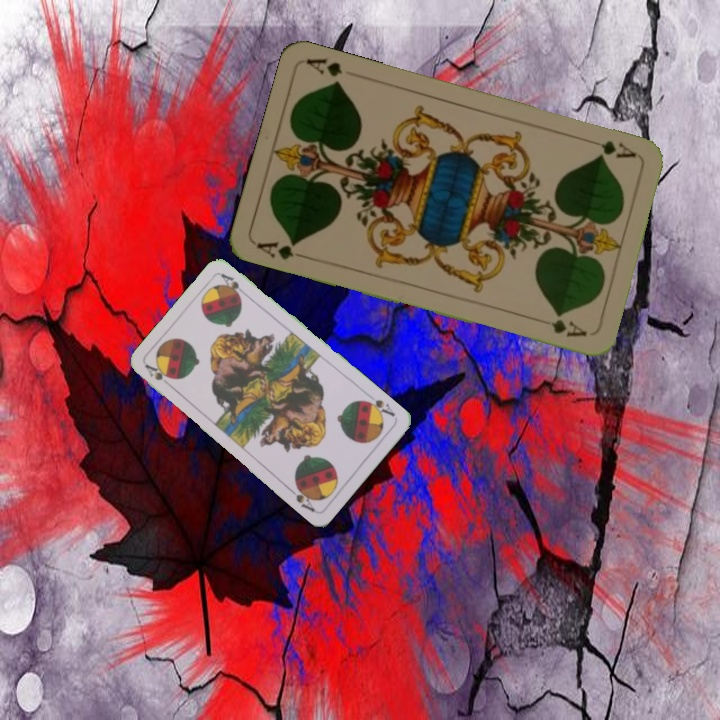GA: (253, 237, 311, 263), (594, 136, 641, 161)
SA: (359, 390, 398, 420), (141, 360, 176, 391)
